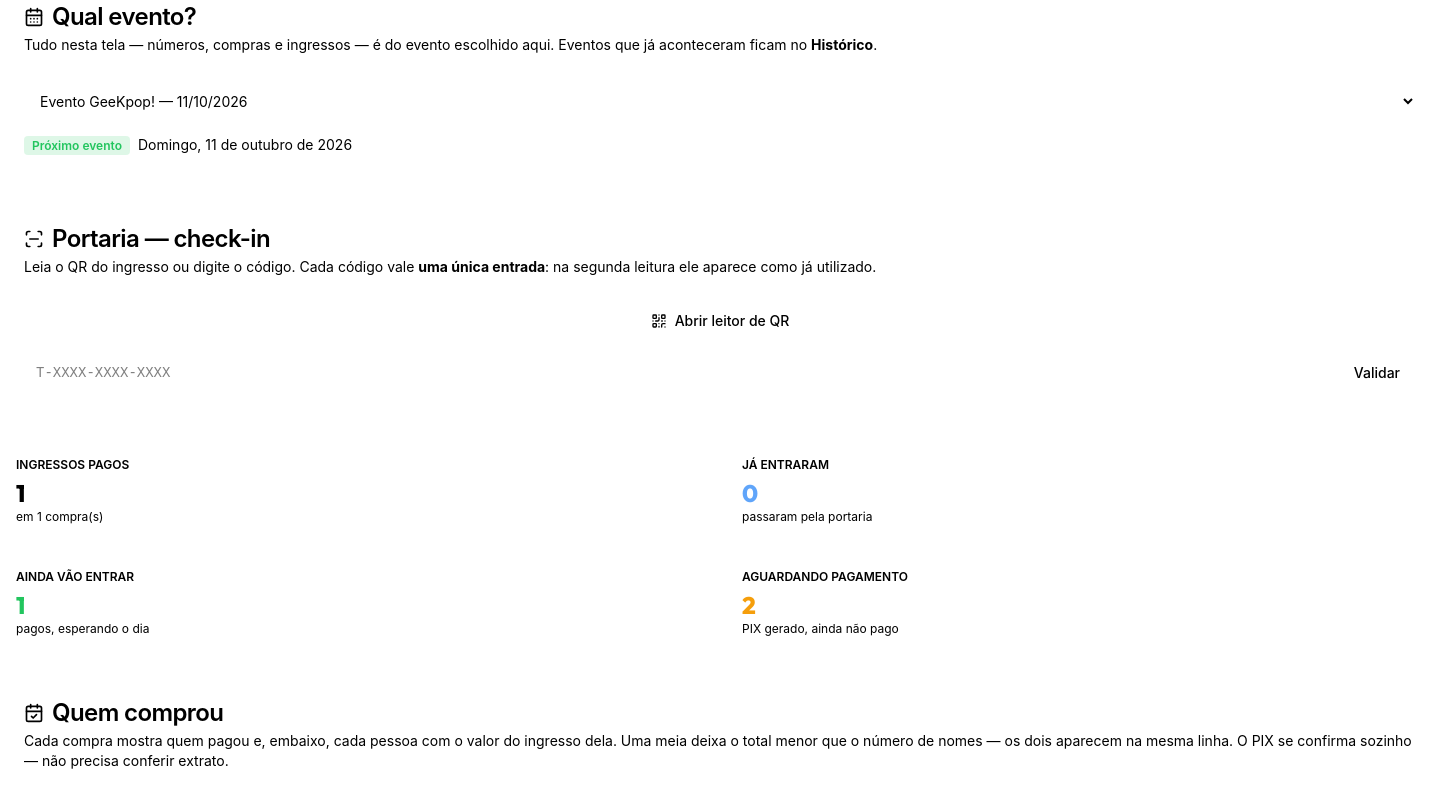
Scenario: EventTicketsTab › "Todos os eventos juntos" não filtra por evento e diz de qual é cada compra
Step 1. Select "Todos os eventos juntos" in the dropdown named "Evento" → {"x": 720, "y": 101}, box [24,79,1416,123]
(page scrolled)
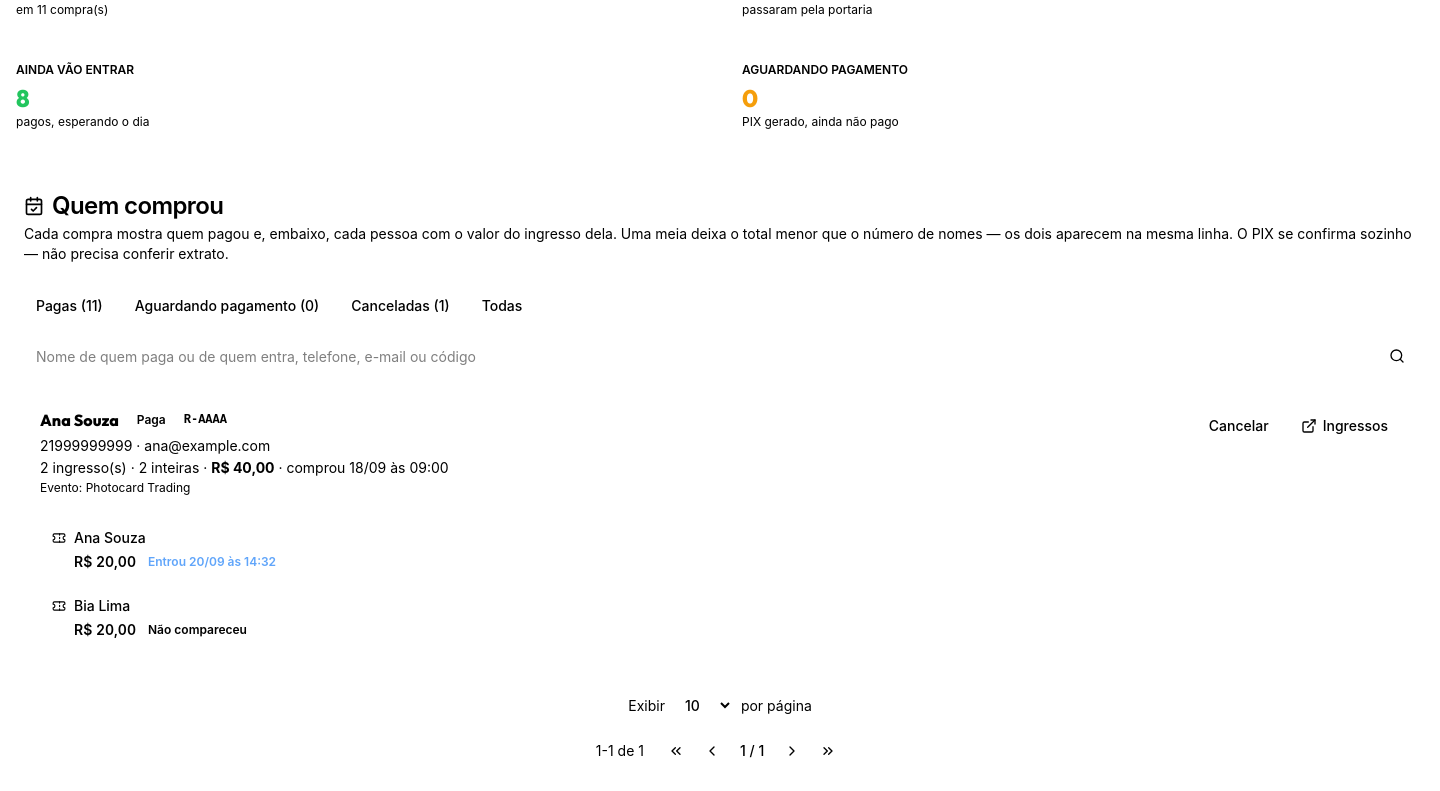
Expected: the text "Evento: Photocard Trading" is shown, [40,480,190,495]
Expected: the text "Não compareceu" is shown, [148,622,247,638]
